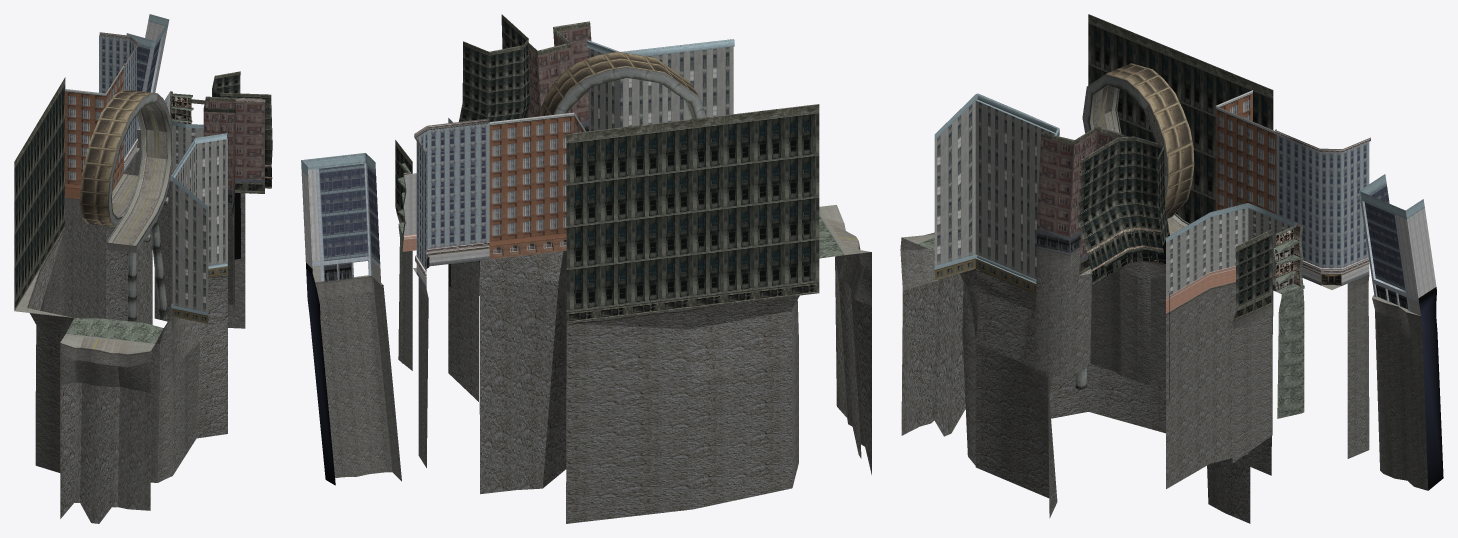
Rendered from STG0100_OS_12.fbx.
3 renders of one model, left to right at view 1: azimuth 30°, elevation 25°; view 2: azimuth 150°, elevation 25°; view 3: azimuth 270°, elevation 25°, orthographic. The views are drawn at different scales.
Parts seen in each view (by area): view 1: STG0100_OS_12_default; view 2: STG0100_OS_12_default; view 3: STG0100_OS_12_default.
Boxes of the visible parts, left/top/right/bottom form: STG0100_OS_12_default: left=14, top=14, right=272, bottom=523; STG0100_OS_12_default: left=301, top=14, right=871, bottom=523; STG0100_OS_12_default: left=900, top=14, right=1443, bottom=523.
Size of the model in its own units: 1760 by 2047 by 2355.
